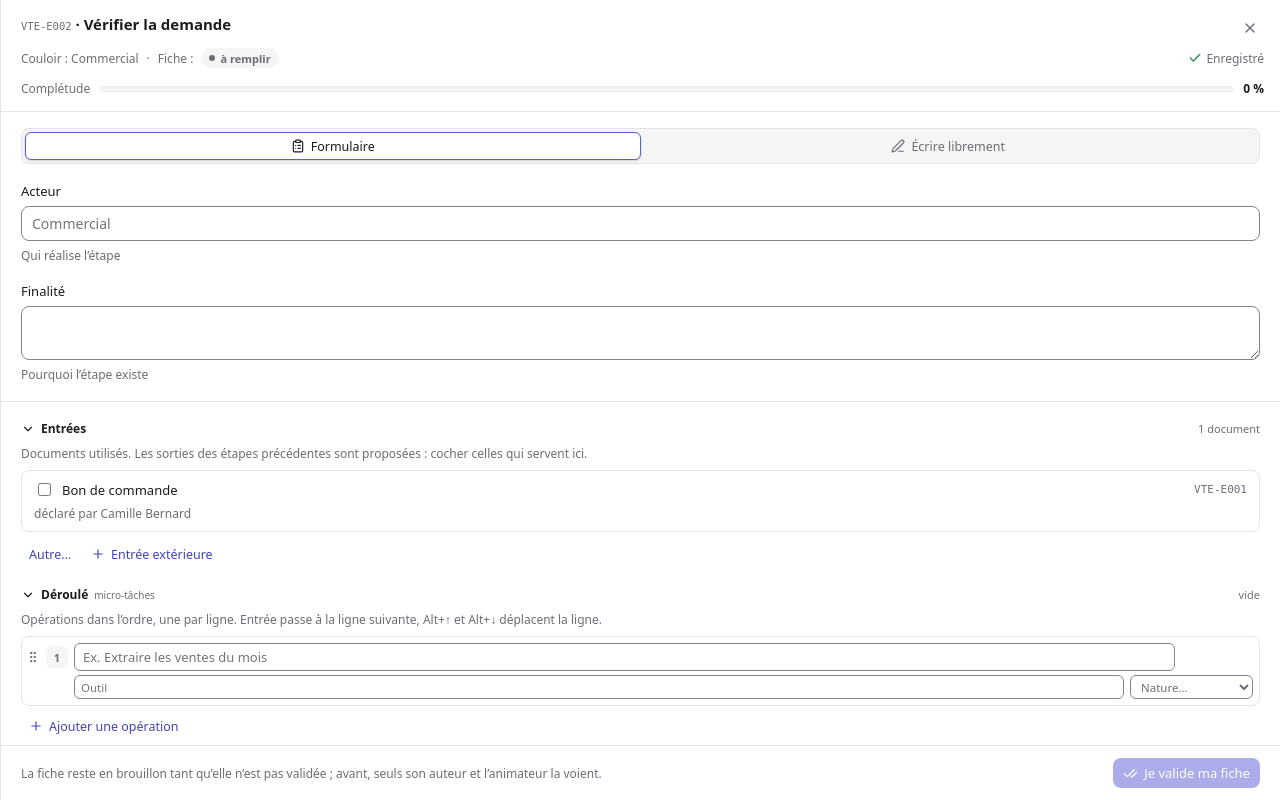
Test: the outputs of the steps before (B-4-62, B-4-63, B-4-65) › offered unticked with the code of their producer; a tick uses the document with an empty use, then the map is read again
This screenshot has width=1280, height=800.
Click the checkbox named "Utiliser « Bon de commande »": (44,490) [38,483,51,496]
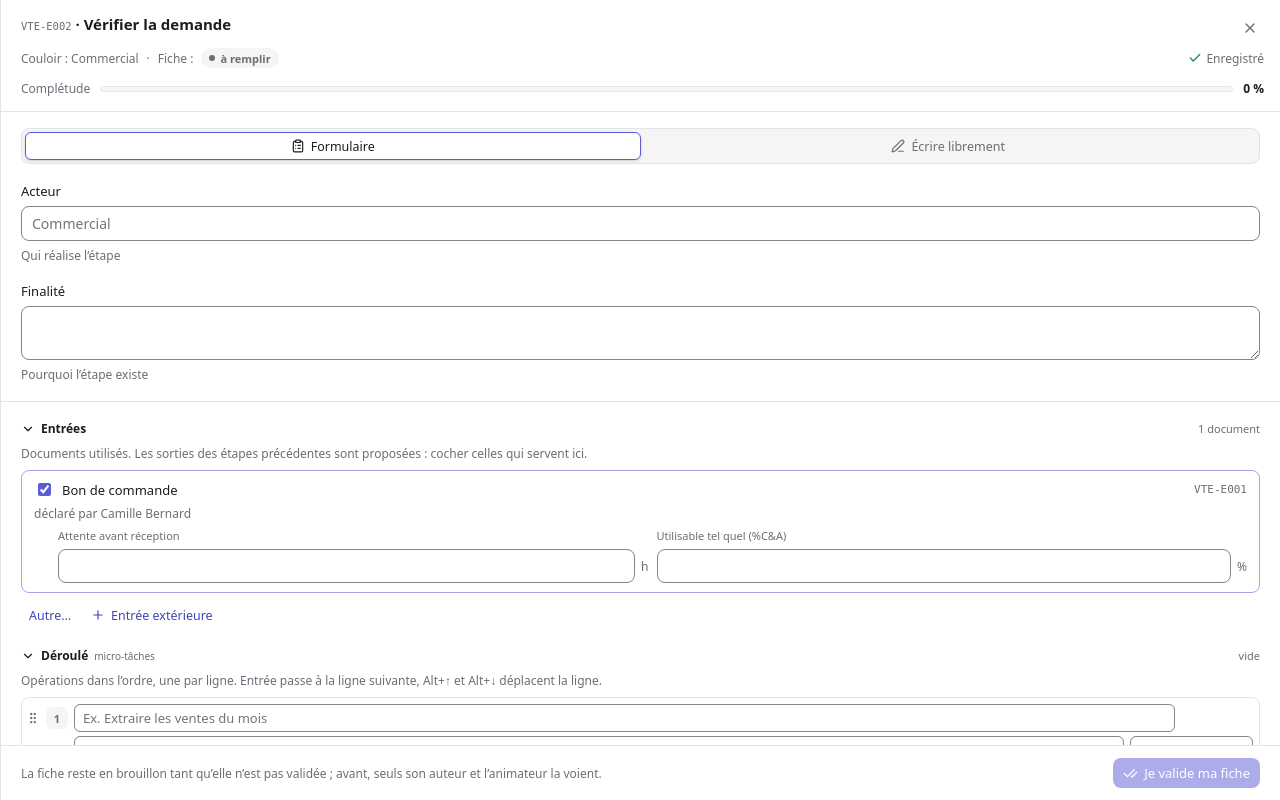
Now the checkbox named "Utiliser « Bon de commande »" is checked, box [38,483,51,496]
Now the element with test id "use-d1" is shown, box [34,528,1247,583]
